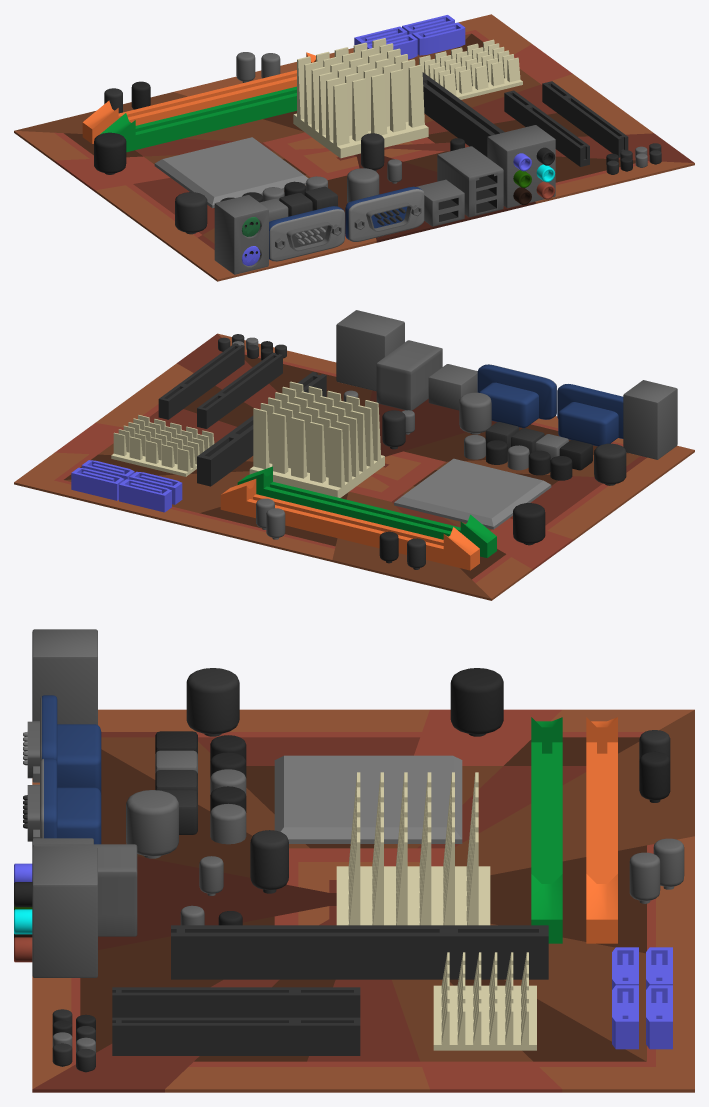
File: MotherBoard.fbx
3 renders of one model, top to bottom at view 1: azimuth 30°, elevation 25°; view 2: azimuth 150°, elevation 25°; view 3: azimuth 270°, elevation 25°, orthographic. The views are drawn at different scales.
Parts seen in each view (by area): view 1: Cube.001; view 2: Cube.001; view 3: Cube.001.
Part boxes in pixels (<box>): Cube.001: <box>14,14,694,281</box>; Cube.001: <box>14,310,694,600</box>; Cube.001: <box>14,629,694,1092</box>.
Bounding box in the file's own units: 105 × 14.49 × 79.3.
